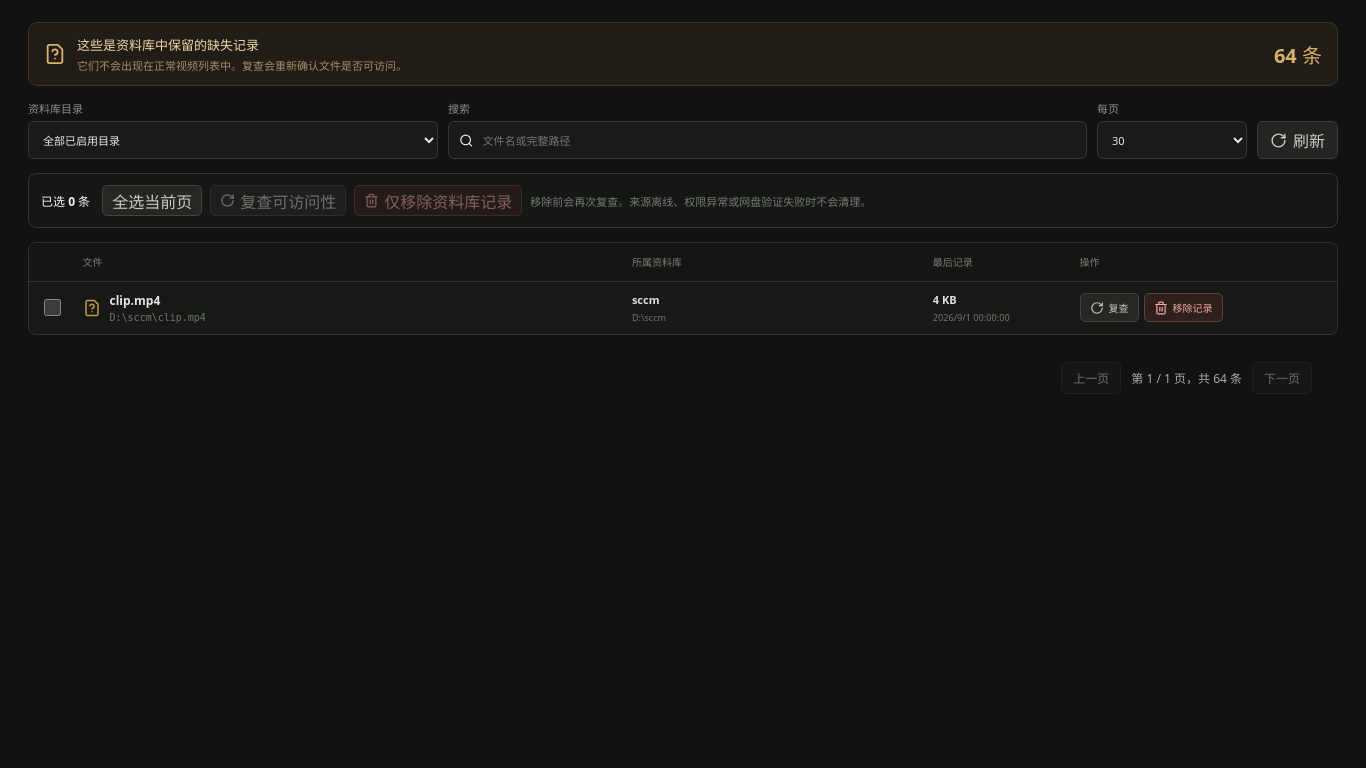
Test: MissingVideosPage › requires confirmation and explains that cleanup only removes database records
Expected: the text "clip.mp4" is shown, [110,292,160,309]
Click the checkbox named "选择 clip.mp4" at [52, 308], box [44,299,61,316]
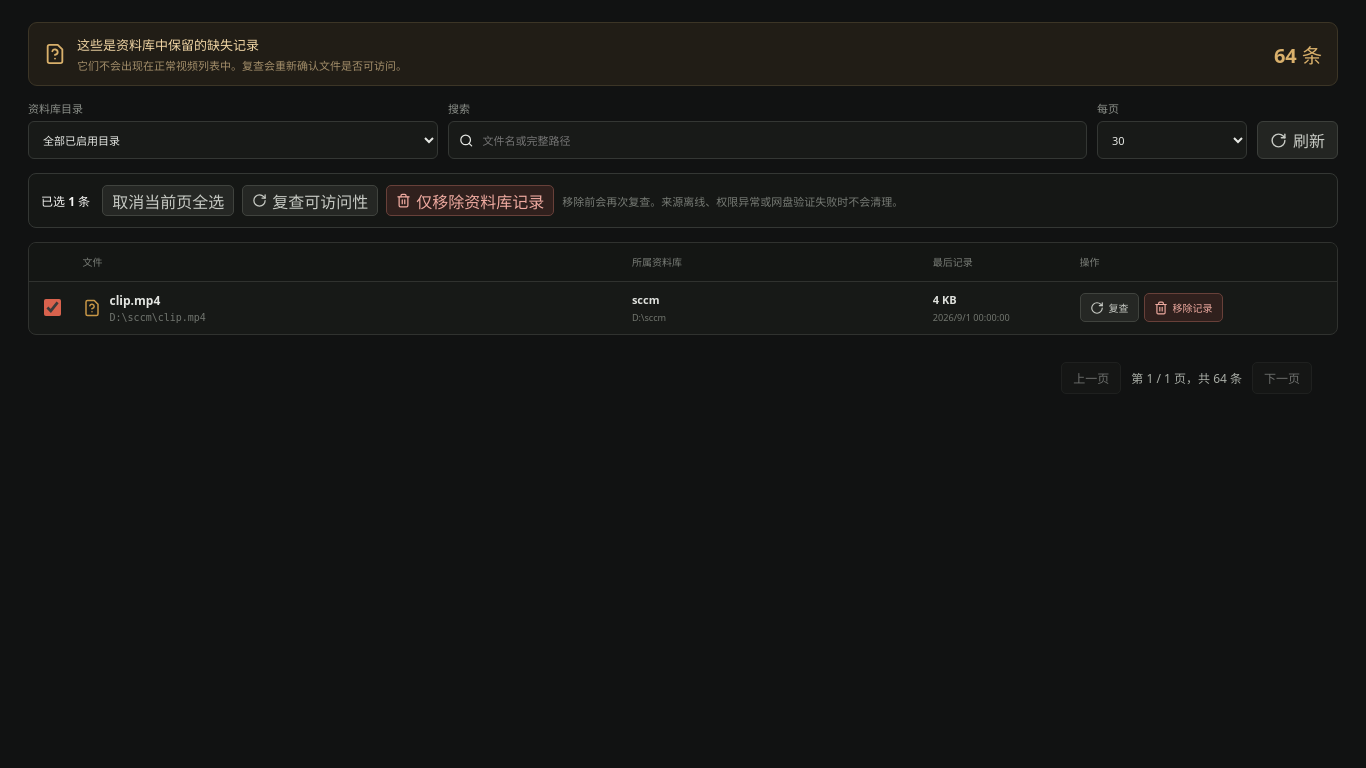
Click the button "仅移除资料库记录" at [470, 200], box [386,185,554,216]
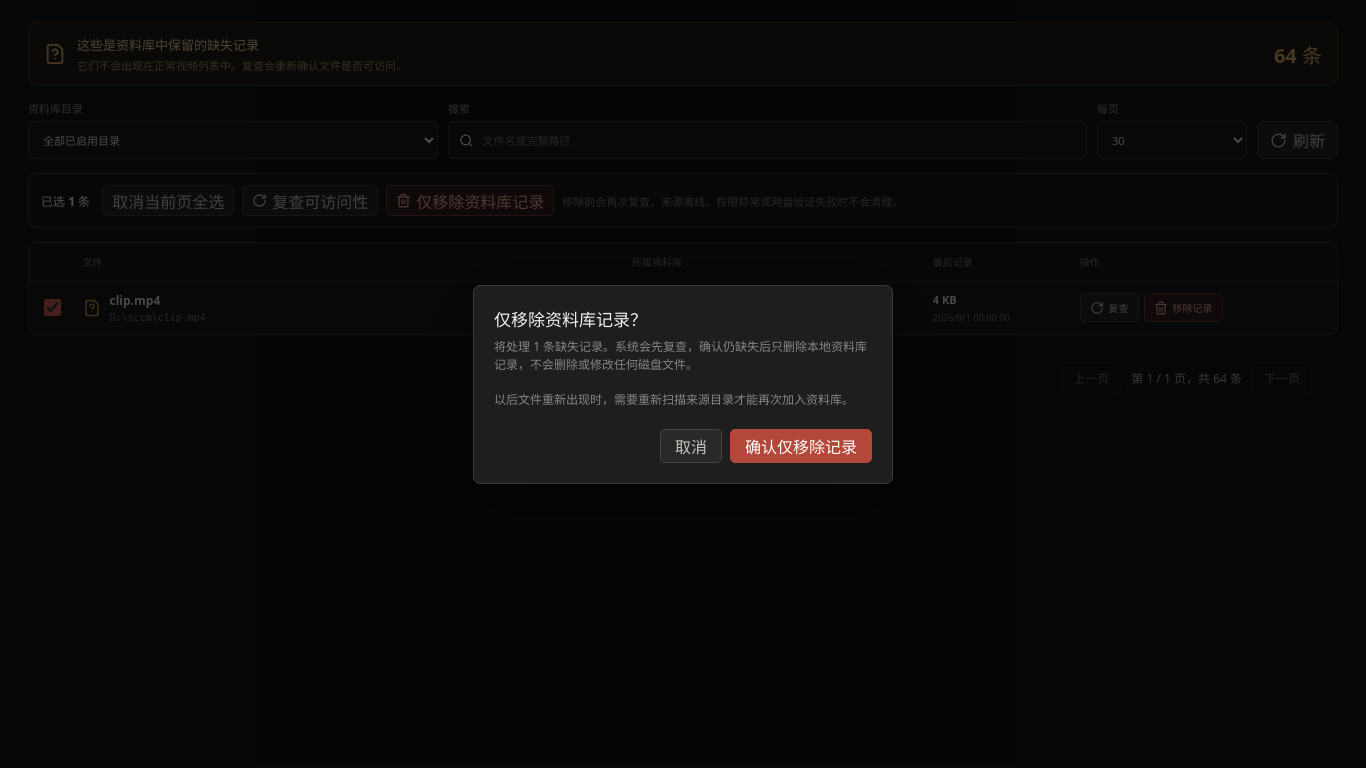
Result: the dialog shows "不会删除或修改任何磁盘文件" at [494,338,867,372]
Click the button "确认仅移除记录" at [801, 446], box [730,428,872,462]
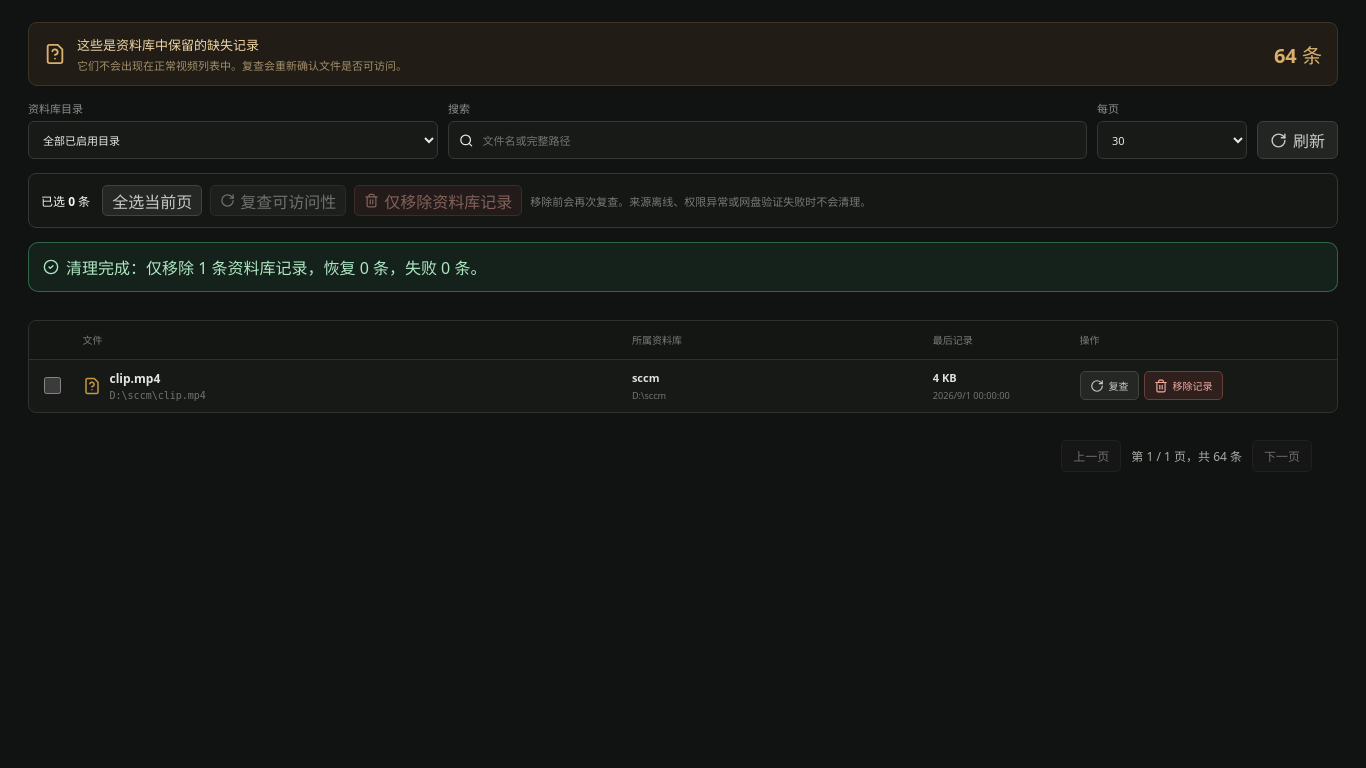
Result: the text "清理完成：仅移除 1 条资料库记录，恢复 0 条，失败 0 条。" is shown at [28,242,1338,292]
